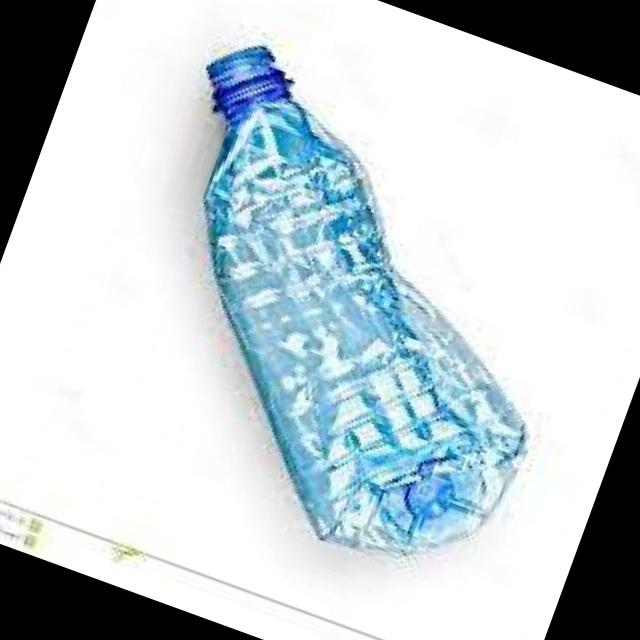BotolPlastik: (66, 26, 630, 599)
